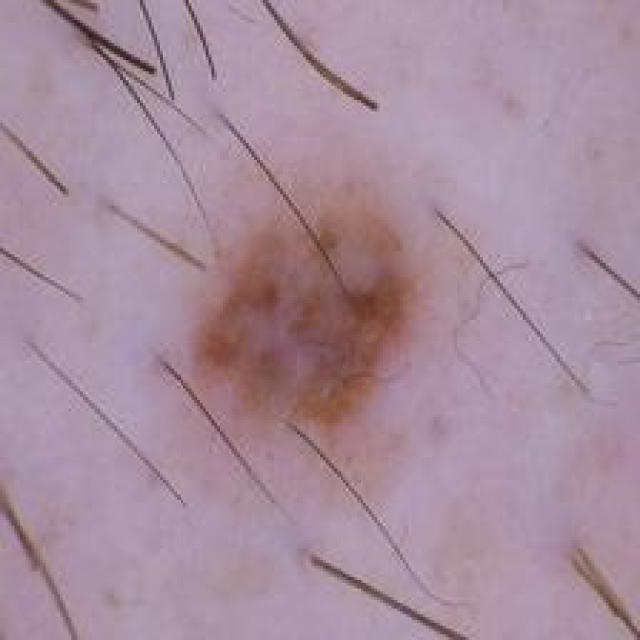Cancer: (177, 185, 416, 450)
